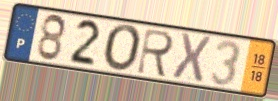2: (68, 18, 104, 70)
3: (209, 37, 245, 91)
8: (35, 13, 69, 63)
O: (102, 23, 144, 75)
R: (134, 27, 177, 80)
X: (170, 30, 213, 84)
